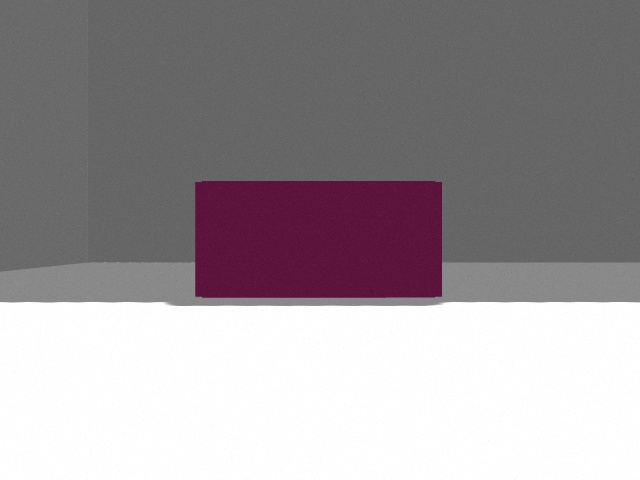red_drop_zone: (195, 181, 442, 298)
